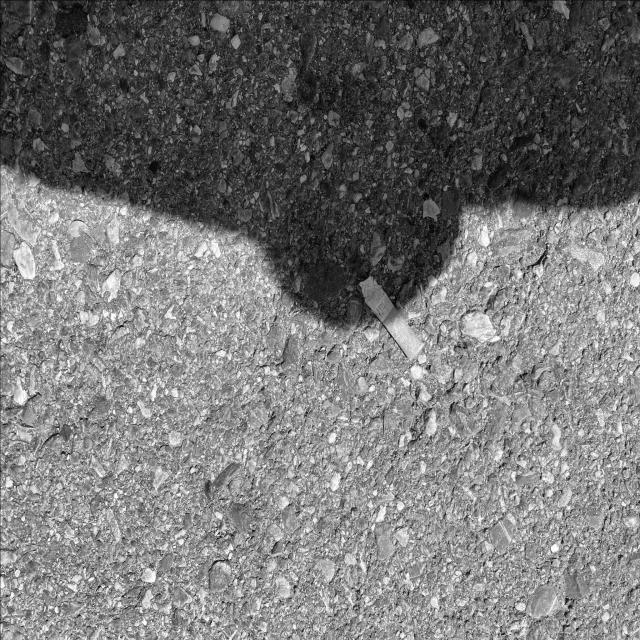other waste: (358, 272, 424, 362)
